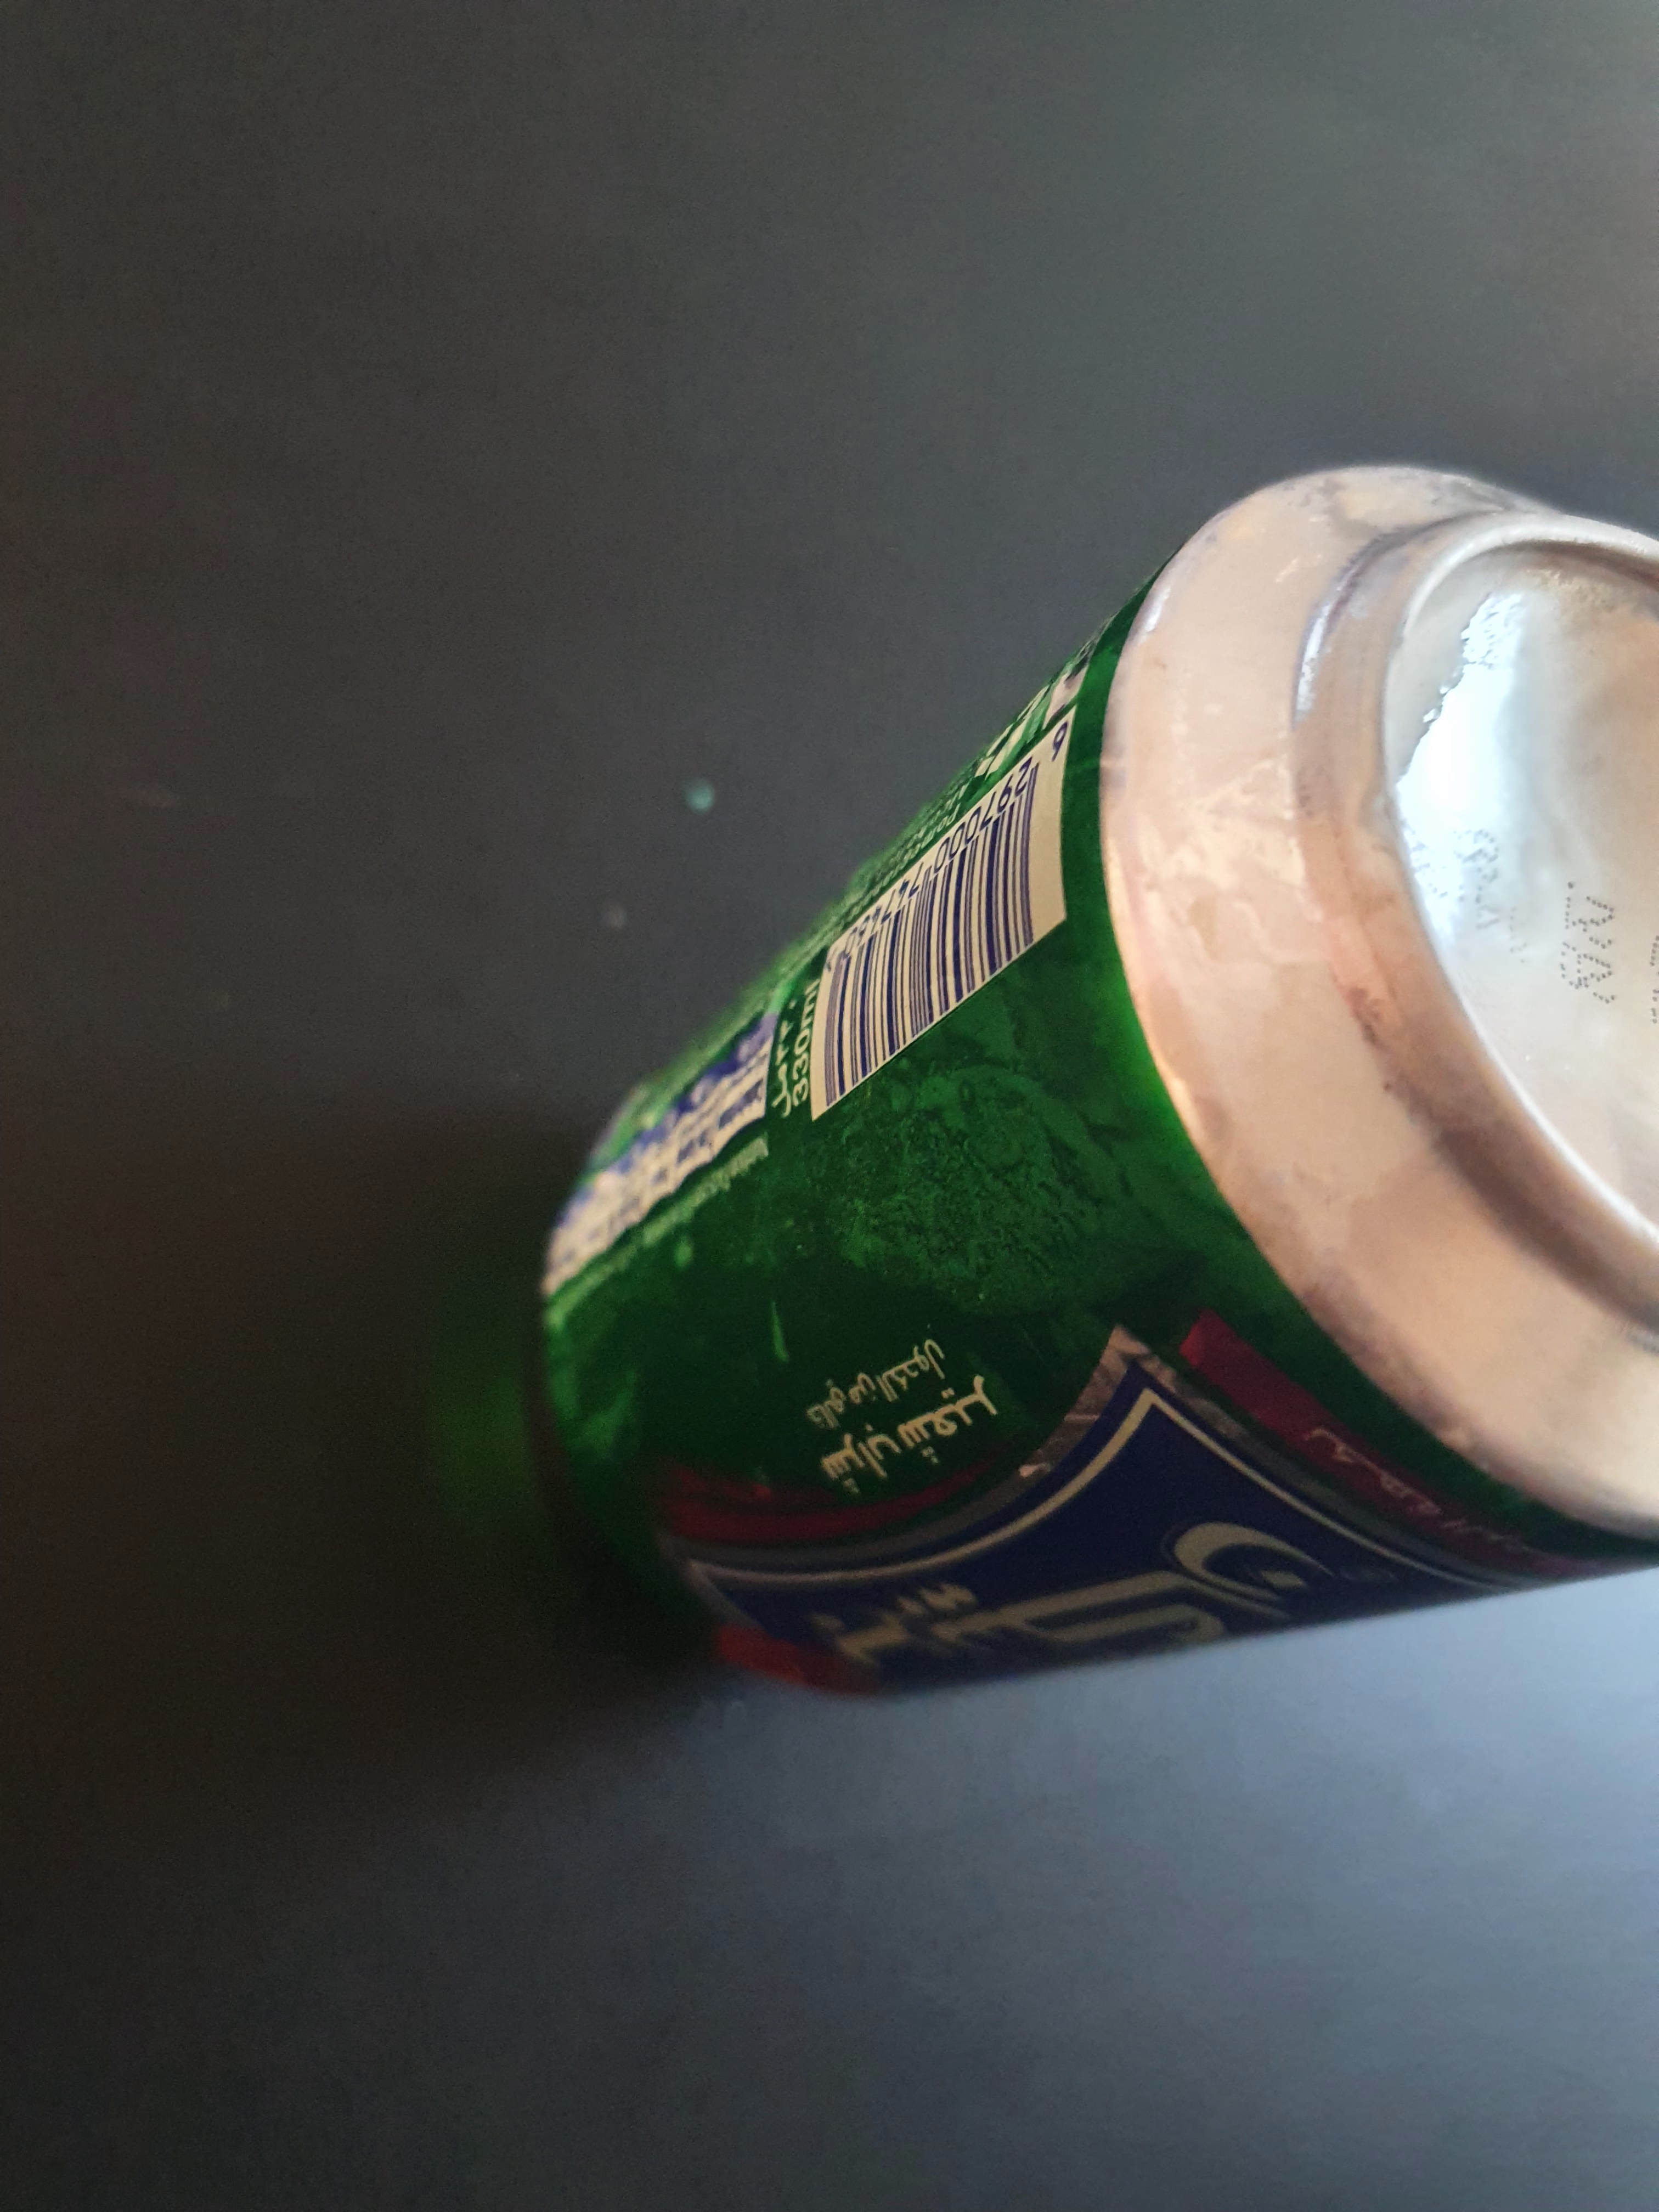metal: (450, 394, 1659, 1757)
